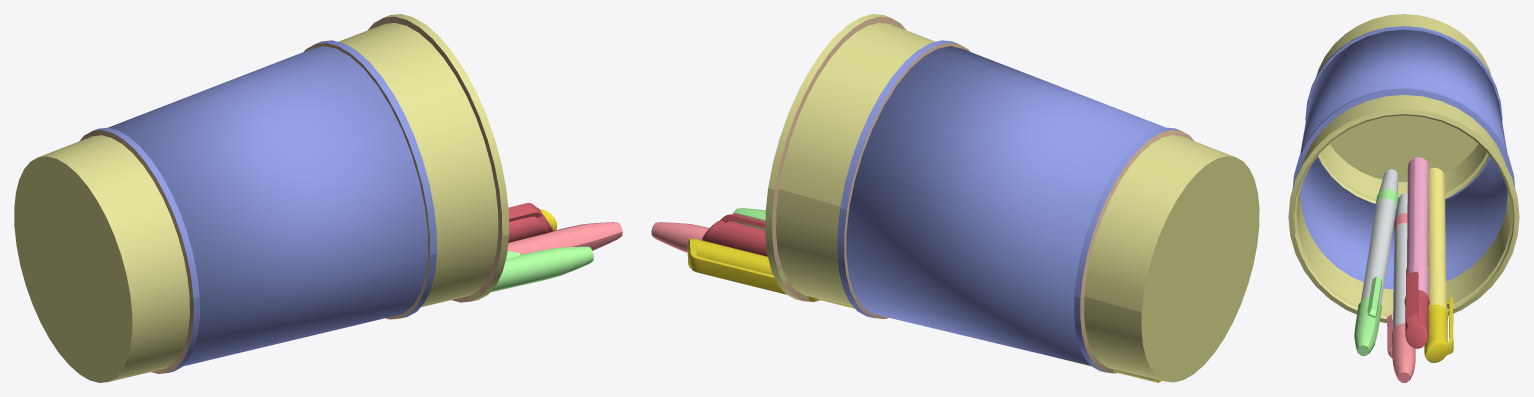
The model's file is 종이컵과볼펜결합 1.fbx.
The picture shows the model from 3 angles, left to right: view 1: azimuth 30°, elevation 25°; view 2: azimuth 150°, elevation 25°; view 3: azimuth 270°, elevation 25°; orthographic projection. The views are drawn at different scales.
Visible parts, largest first — view 1: cup_for_pen.001, hood_01.001, hood_01.002, hood_02; view 2: cup_for_pen.001, hood_02.001, hood_02, hood_01.002; view 3: cup_for_pen.001, gel_pen, pen.001, gel_pen.001, pen.002, hood_02, hood_01.001, hood_02.001, hood_01.002.
Part boxes in pixels (<box>): cup_for_pen.001: <box>14,14,508,382</box>; hood_01.001: <box>490,246,593,292</box>; hood_01.002: <box>507,222,622,254</box>; hood_02: <box>508,203,552,242</box>; cup_for_pen.001: <box>765,14,1259,382</box>; hood_02.001: <box>687,238,817,300</box>; hood_02: <box>702,214,767,256</box>; hood_01.002: <box>651,222,709,252</box>; cup_for_pen.001: <box>1288,14,1519,322</box>; gel_pen: <box>1406,157,1428,295</box>; pen.001: <box>1361,169,1398,304</box>; gel_pen.001: <box>1428,167,1446,310</box>; pen.002: <box>1393,193,1407,329</box>; hood_02: <box>1404,271,1429,348</box>; hood_01.001: <box>1354,276,1382,355</box>; hood_02.001: <box>1424,297,1453,362</box>; hood_01.002: <box>1387,314,1415,382</box>.
Size of the model in its own units: 1851 by 865 by 866.
